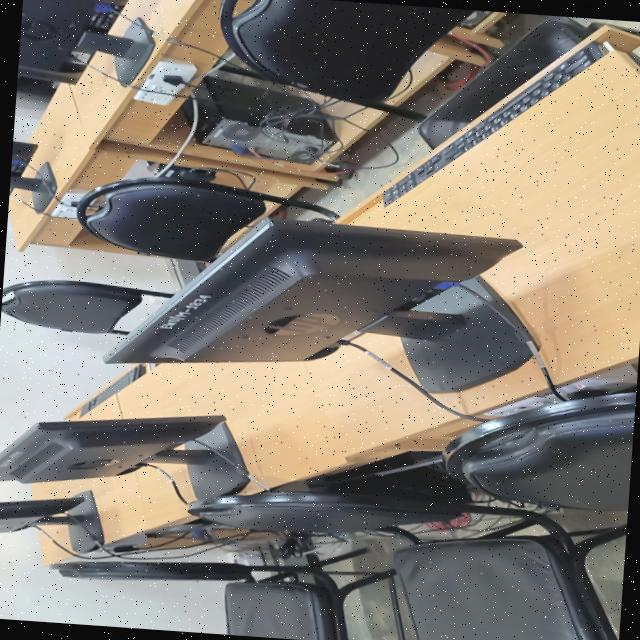Chair: (189, 489, 626, 640), (47, 549, 396, 640), (380, 15, 600, 148), (219, 0, 472, 108), (444, 392, 636, 510), (75, 176, 337, 262), (0, 280, 172, 335)
Cpu: (180, 76, 336, 164)
Keyboard: (381, 42, 604, 206), (78, 365, 144, 416)
Monitor: (102, 219, 534, 393), (0, 415, 249, 498), (16, 0, 152, 85), (0, 491, 102, 550), (8, 141, 55, 212)
